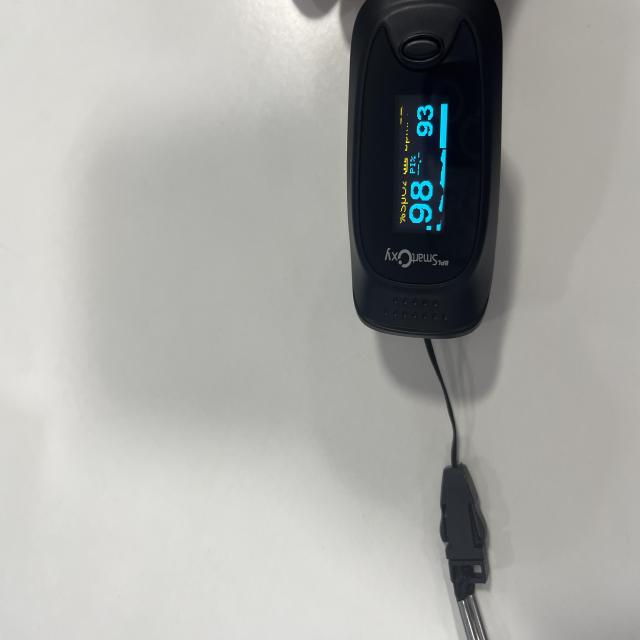spo2: (347, 0, 504, 342)
